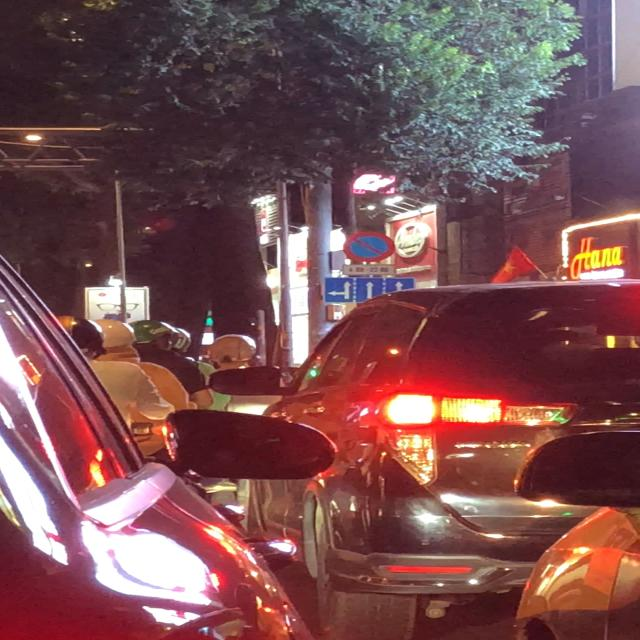Bien bao cam do xe: (342, 230, 396, 263)
